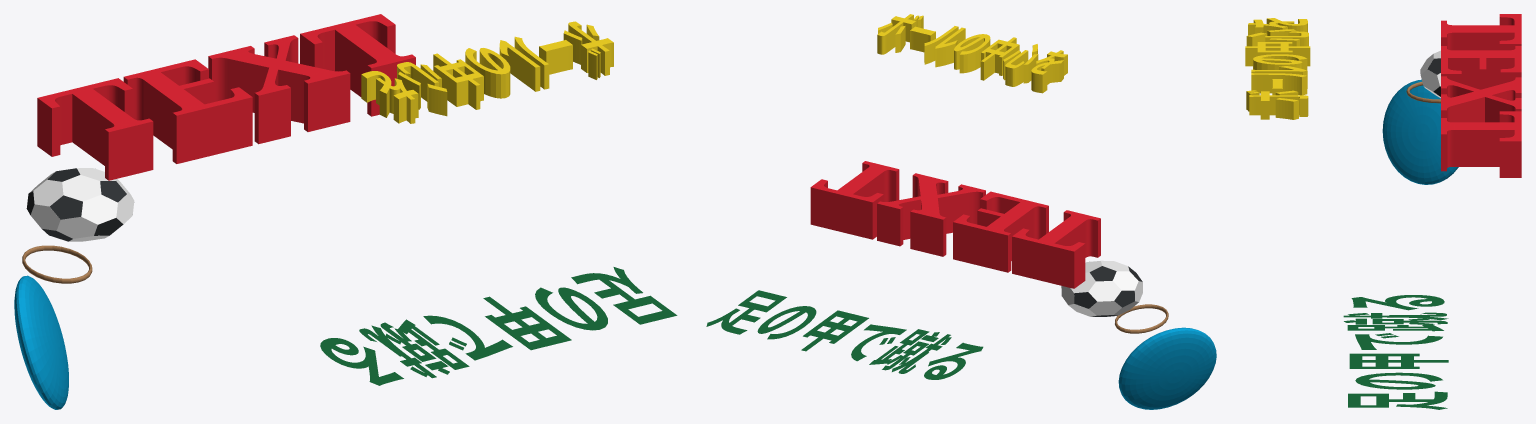
Rendered from tinker.obj.
3 renders of one model, left to right at view 1: azimuth 30°, elevation 25°; view 2: azimuth 150°, elevation 25°; view 3: azimuth 270°, elevation 25°, orthographic. The views are drawn at different scales.
Parts seen in each view (by area): view 1: group_0_15277357, group_0_16768282, group_0_1206582, group_0_40919, group_0_16448250, group_0_2829873, group_0_11107152; view 2: group_0_15277357, group_0_16768282, group_0_40919, group_0_1206582, group_0_16448250, group_0_2829873, group_0_11107152; view 3: group_0_15277357, group_0_16768282, group_0_1206582, group_0_40919, group_0_16448250.
Part boxes in pixels (x1,y1,x2,y2): group_0_15277357: (37, 14, 415, 180); group_0_16768282: (361, 21, 613, 123); group_0_1206582: (320, 267, 677, 385); group_0_40919: (14, 275, 68, 409); group_0_16448250: (29, 168, 134, 241); group_0_2829873: (26, 168, 126, 241); group_0_11107152: (22, 245, 92, 283); group_0_15277357: (810, 161, 1100, 288); group_0_16768282: (877, 14, 1067, 93); group_0_40919: (1118, 327, 1216, 409); group_0_1206582: (706, 290, 983, 379); group_0_16448250: (1061, 260, 1142, 316); group_0_2829873: (1074, 266, 1142, 316); group_0_11107152: (1115, 304, 1168, 333); group_0_15277357: (1441, 14, 1521, 177); group_0_16768282: (1245, 18, 1310, 119); group_0_1206582: (1343, 295, 1448, 409); group_0_40919: (1382, 79, 1458, 184); group_0_16448250: (1420, 50, 1440, 98).
Size of the model in its own units: 136 by 71.01 by 67.91.
